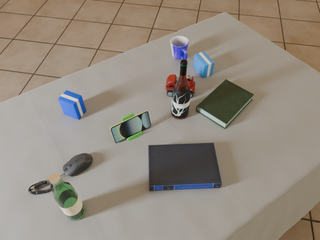book: (149, 143, 222, 191), (196, 79, 254, 129)
bottle: (49, 173, 85, 221), (171, 59, 191, 119)
box: (58, 90, 86, 120), (193, 52, 214, 78)
cup: (171, 36, 189, 60)
mouse: (63, 153, 92, 176)
phone: (110, 111, 151, 143)
toy_car: (166, 75, 195, 98)
